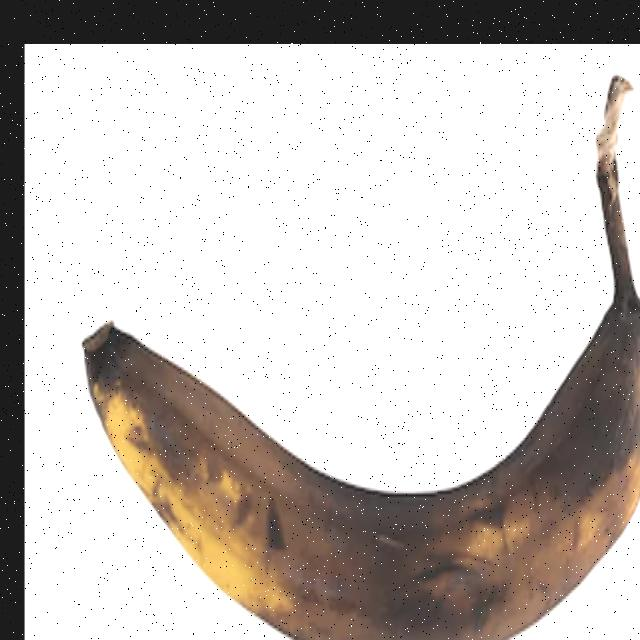Rotten: (67, 62, 640, 640)
